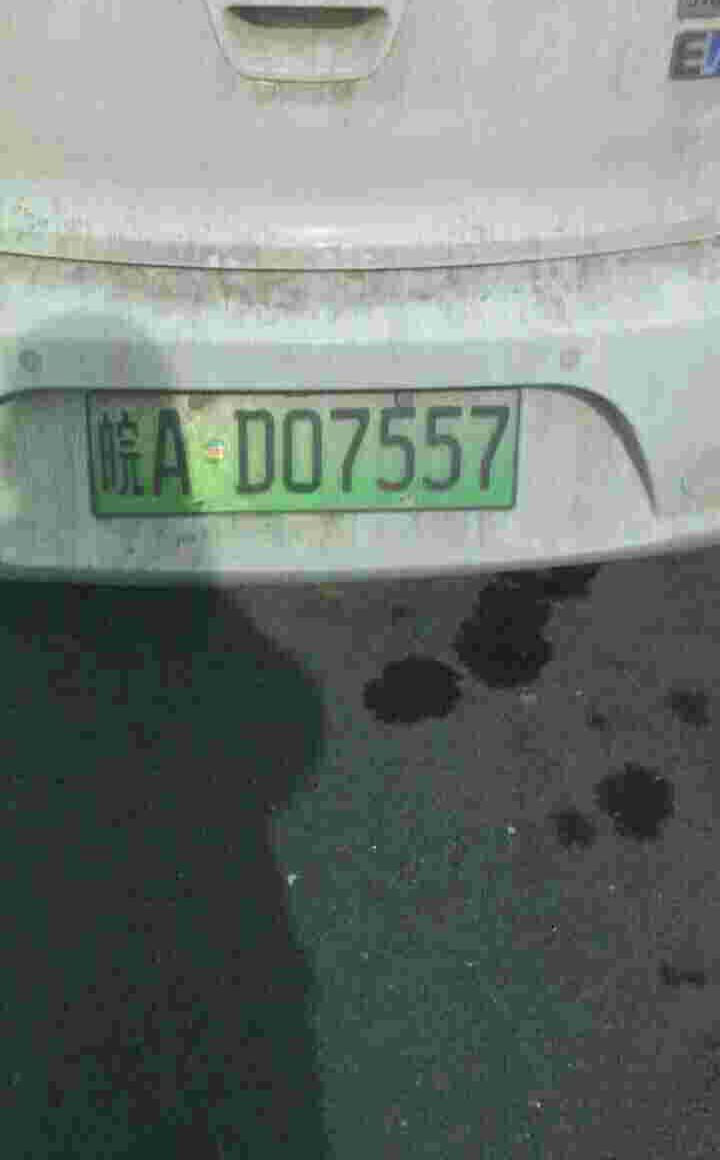car: (71, 387, 517, 516)
